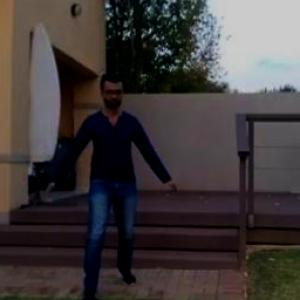land: (39, 61, 184, 299)
